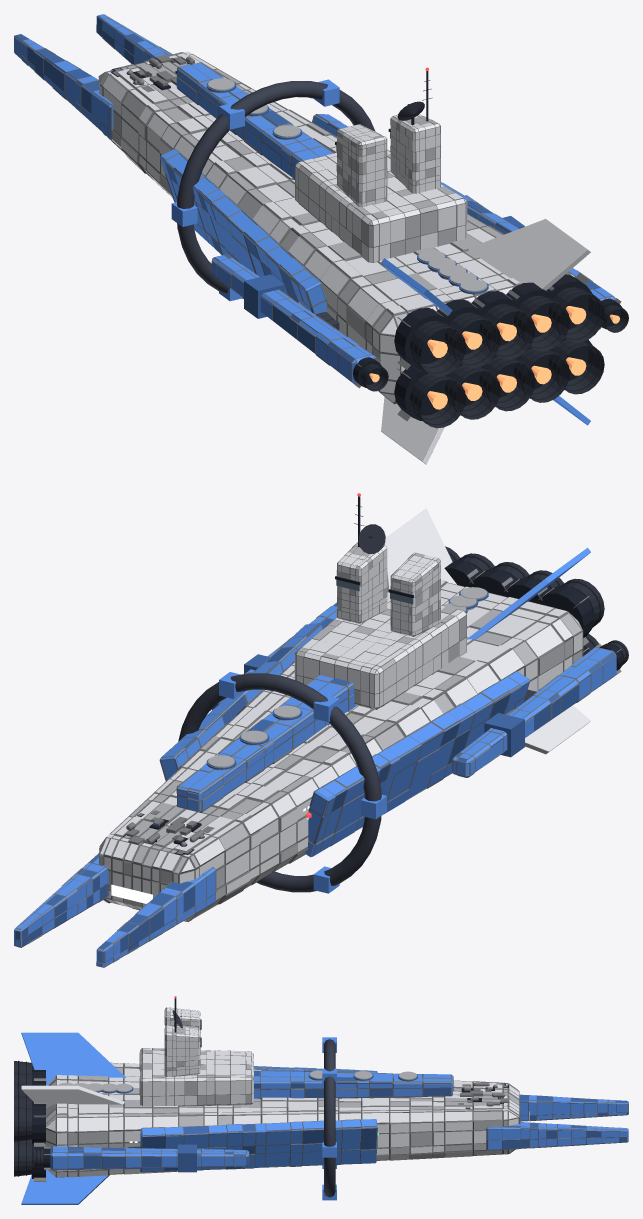
The model's file is aeon.glb.
The picture shows the model from 3 angles, top to bottom: view 1: azimuth 30°, elevation 25°; view 2: azimuth 150°, elevation 25°; view 3: azimuth 270°, elevation 25°; orthographic projection. The views are drawn at different scales.
Visible parts, largest first — view 1: aeon_mesh; view 2: aeon_mesh, radar_mesh; view 3: aeon_mesh.
Part boxes in pixels (x1,y1,x2,y2): aeon_mesh: [14, 14, 628, 464]; aeon_mesh: [14, 496, 628, 967]; radar_mesh: [358, 524, 385, 553]; aeon_mesh: [14, 998, 628, 1204].
Size of the model in its own units: 43.96 by 47.98 by 130.
